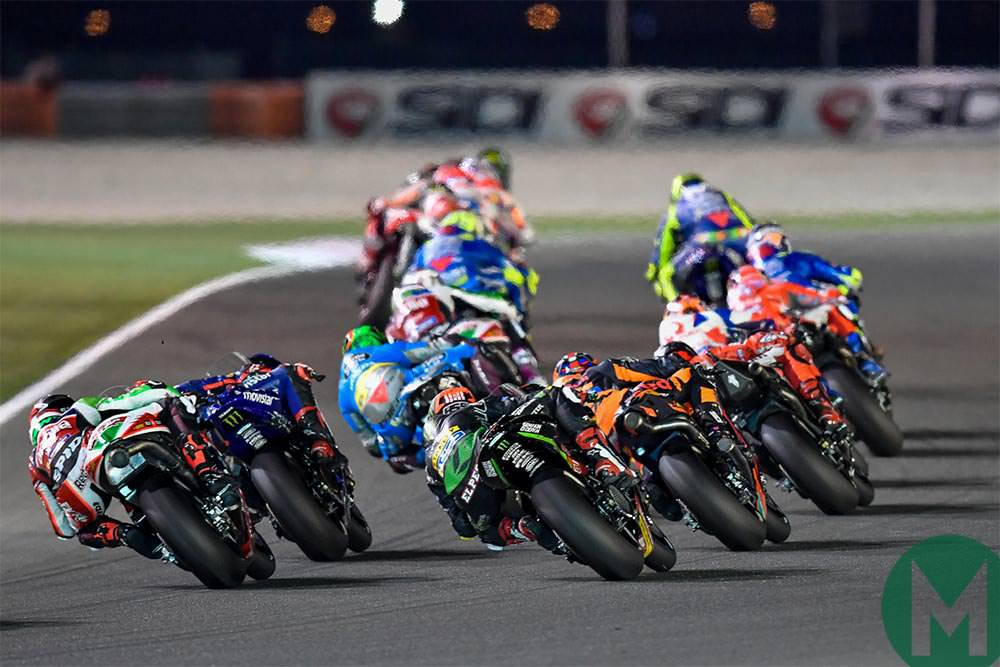helmet: (731, 216, 798, 263)
